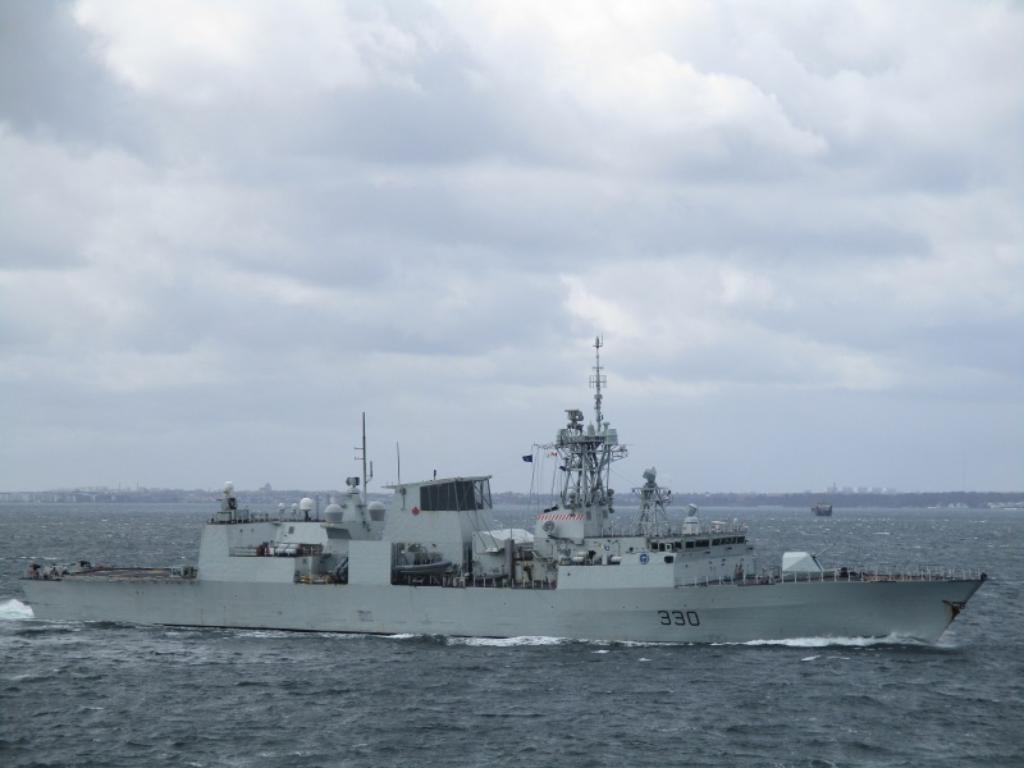Warship: (15, 322, 995, 652)
